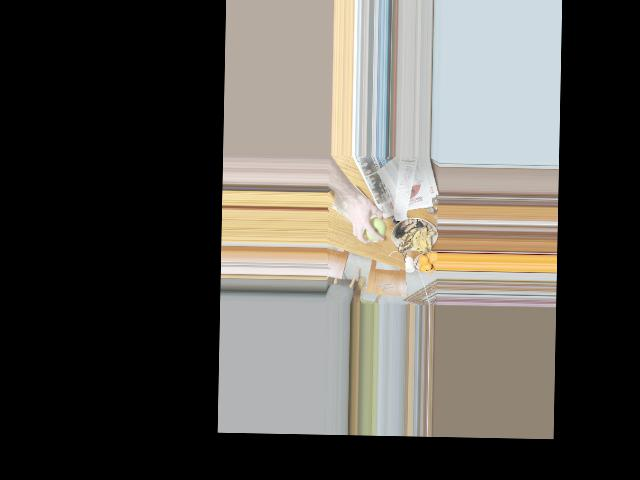apple: (364, 216, 386, 241)
